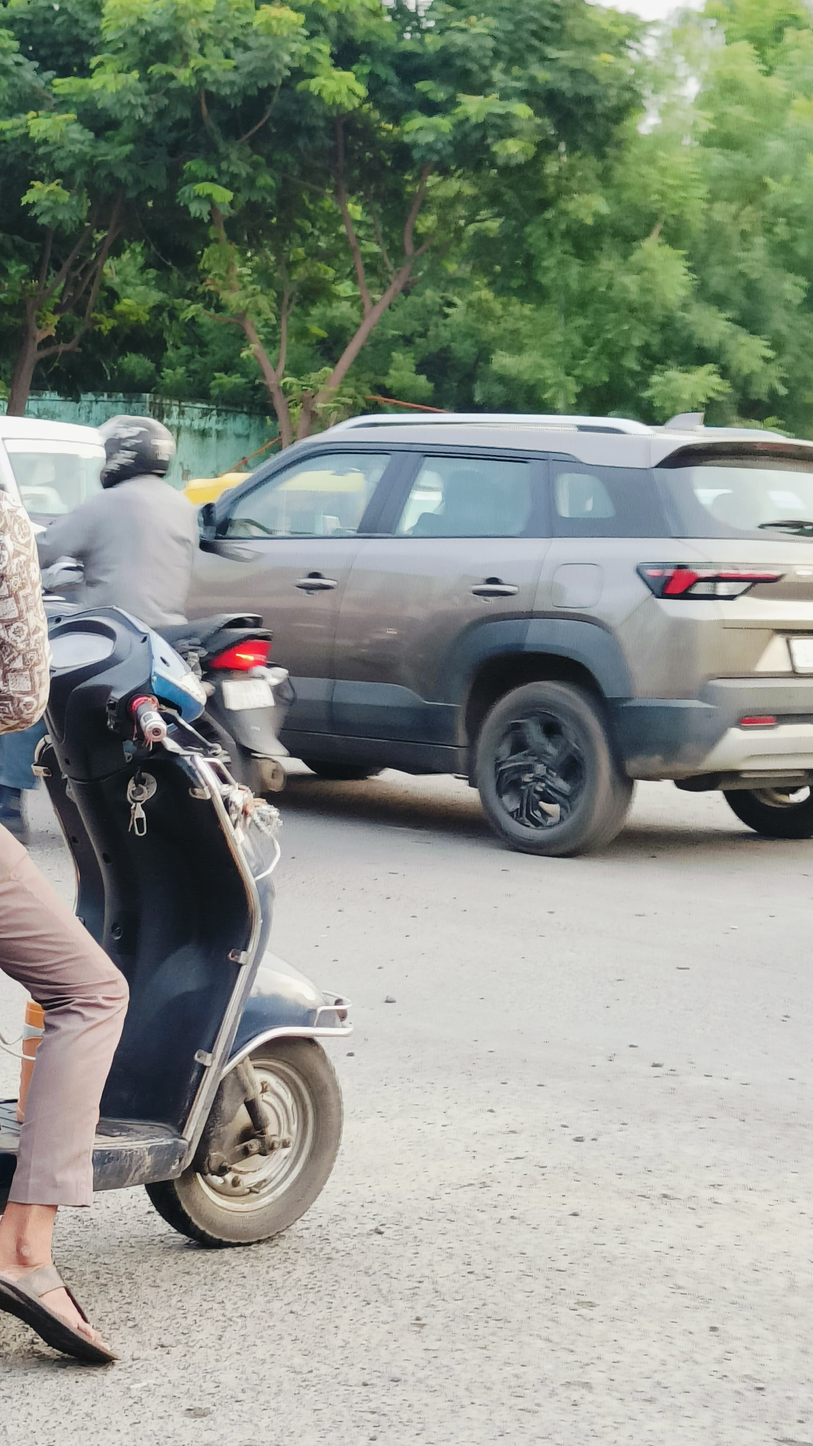Helmet: (83, 401, 187, 492)
